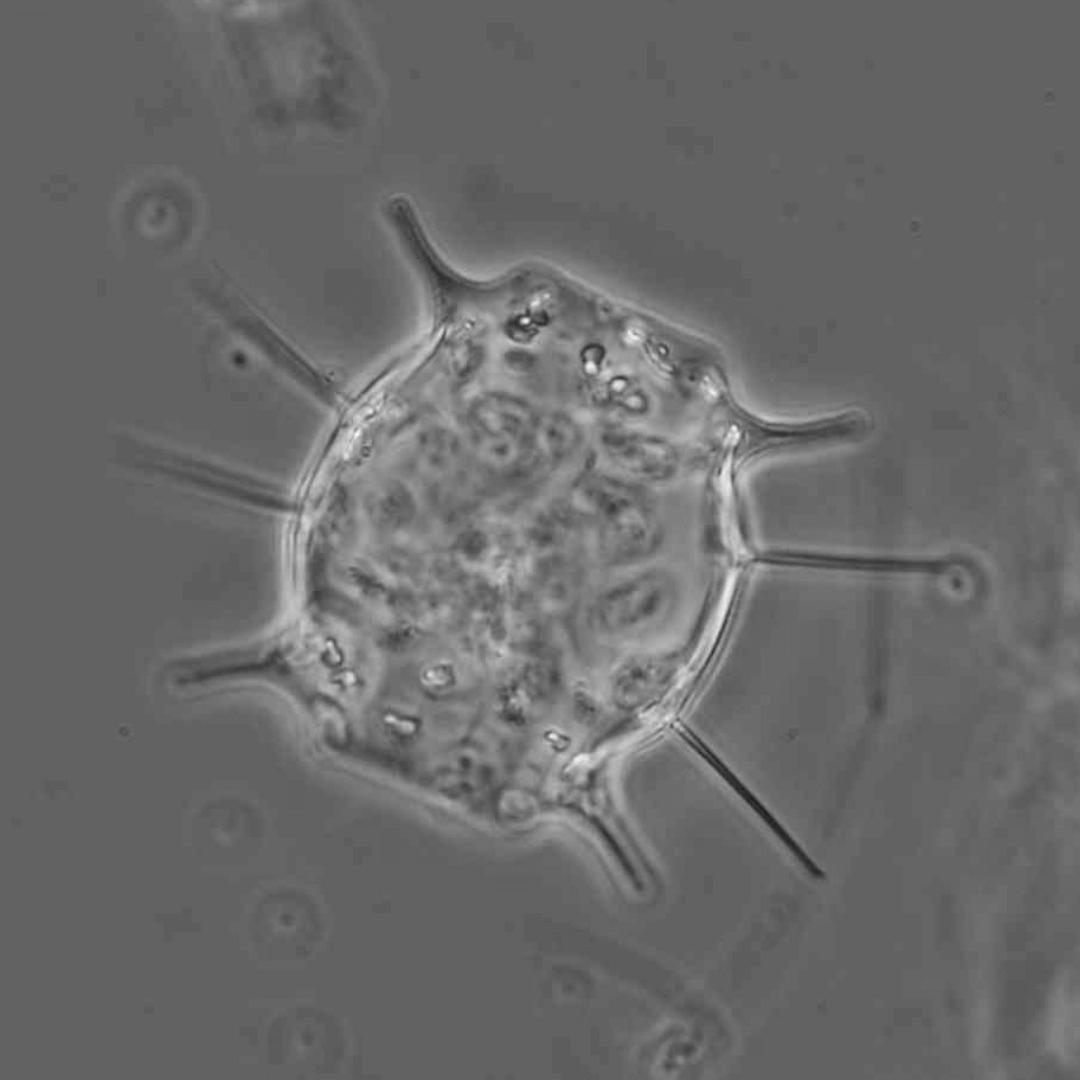odontella_mobiliensis: (115, 196, 970, 909)
